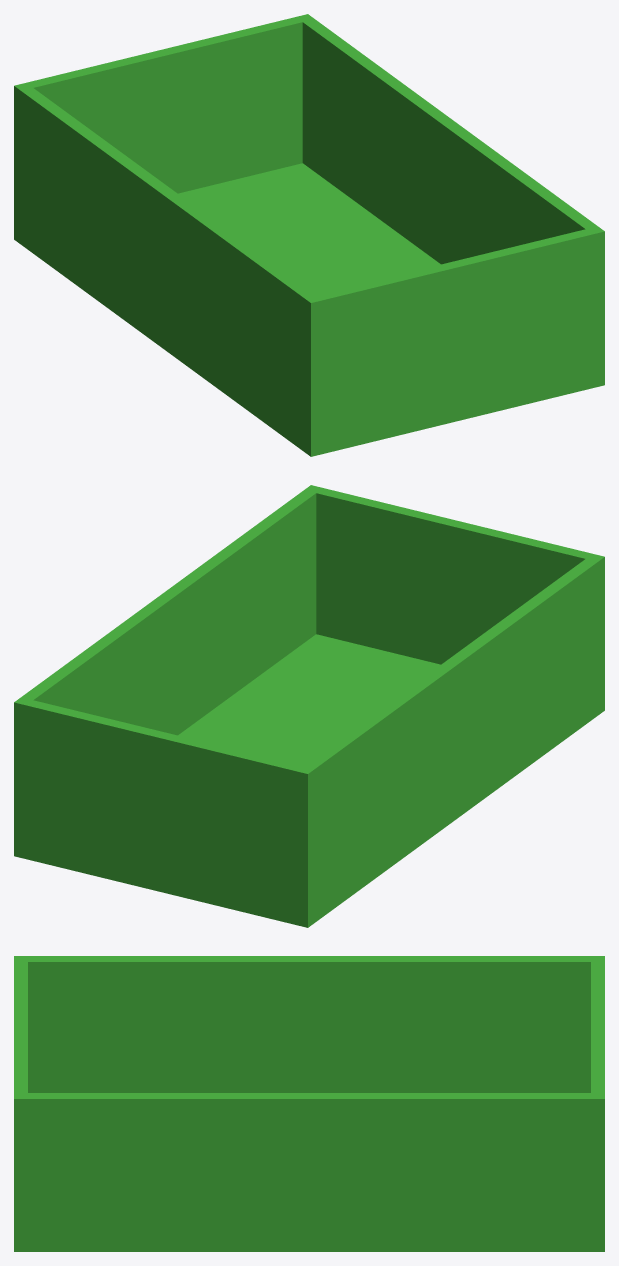
The model's file is Box_large.glb.
3 renders of one model, top to bottom at view 1: azimuth 30°, elevation 25°; view 2: azimuth 150°, elevation 25°; view 3: azimuth 270°, elevation 25°, orthographic.
Parts seen in each view (by area): view 1: Cube.001, Cube.002, Cube.004, Cube.005, Cube.003; view 2: Cube.005, Cube.002, Cube.004, Cube.001, Cube.003; view 3: Cube.004, Cube.002, Cube.001, Cube.005.
Part boxes in pixels (x1,y1,x2,y2): Cube.001: (304,226,604,456); Cube.002: (21,88,315,451); Cube.004: (302,19,597,264); Cube.005: (14,14,314,244); Cube.003: (178,163,440,294); Cube.005: (14,697,314,927); Cube.002: (303,559,597,922); Cube.004: (21,490,316,735); Cube.001: (304,485,604,715); Cube.003: (178,634,440,765); Cube.004: (28,1093,590,1251); Cube.002: (28,956,590,1092); Cube.001: (14,956,27,1251); Cube.005: (591,956,604,1251).
Bounding box in the file's own units: 0.3 × 0.15 × 0.525.
